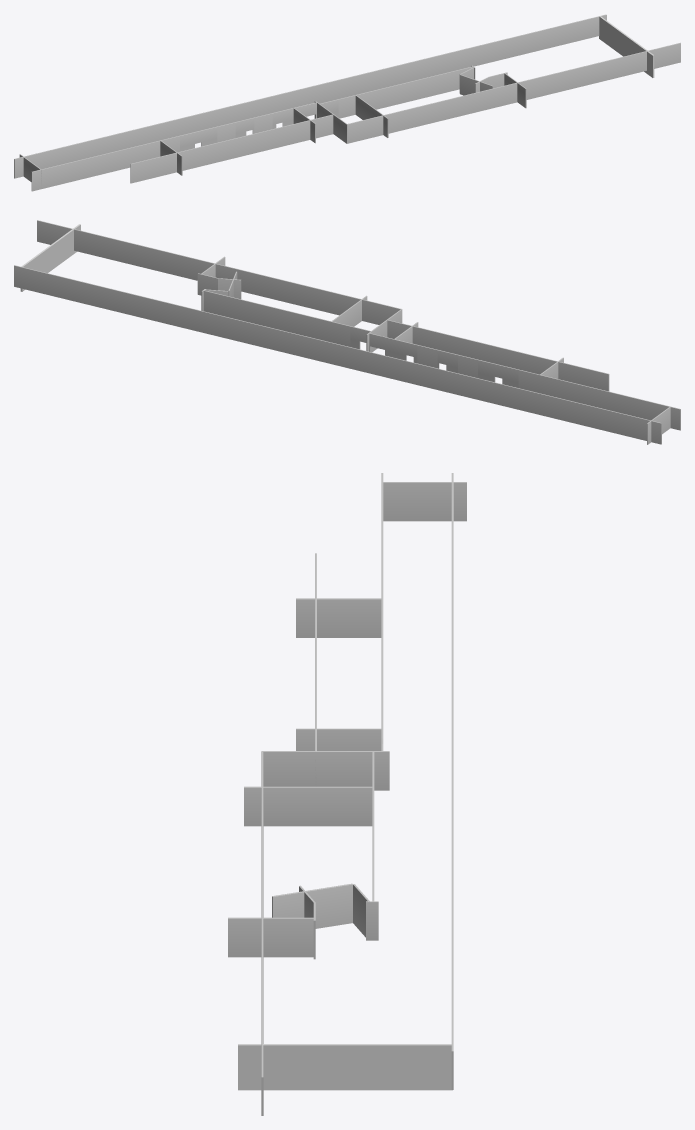
File: walls.fbx
The picture shows the model from 3 angles, top to bottom: view 1: azimuth 30°, elevation 25°; view 2: azimuth 150°, elevation 25°; view 3: azimuth 270°, elevation 25°; orthographic projection. The views are drawn at different scales.
Parts seen in each view (by area): view 1: row.007, row.031, row.032, row.019, row.004, Cube.043, row.008, row.029, row.010, row.028, row.039, row.013 (+4 smaller); view 2: row.007, row.031, row.032, row.019, row.004, Cube.043, row.010, row.008, row.029, row.013, row.039, row.033 (+3 smaller); view 3: Cube.043, row.029, row.027, row.001, row.033, row.028, row.030, row.007, row.017, row.023, row.031.
Part boxes in pixels (<box>): row.007: <box>14,14,606,178</box>; row.031: <box>347,42,680,143</box>; row.032: <box>130,114,333,183</box>; row.019: <box>338,67,467,118</box>; row.004: <box>31,144,142,191</box>; Cube.043: <box>599,16,654,77</box>; row.008: <box>180,126,217,151</box>; row.029: <box>355,95,388,137</box>; row.010: <box>143,135,179,160</box>; row.028: <box>325,109,347,143</box>; row.039: <box>217,122,235,142</box>; row.013: <box>254,113,272,133</box>; row.007: <box>14,265,661,444</box>; row.031: <box>37,220,400,324</box>; row.032: <box>387,320,609,391</box>; row.019: <box>209,291,350,346</box>; row.004: <box>559,379,680,430</box>; Cube.043: <box>20,224,80,291</box>; row.010: <box>518,369,559,397</box>; row.008: <box>478,360,518,387</box>; row.029: <box>332,295,367,326</box>; row.013: <box>417,345,437,368</box>; row.039: <box>458,355,478,377</box>; row.033: <box>647,406,670,444</box>; Cube.043: <box>238,1044,452,1090</box>; row.029: <box>244,786,372,826</box>; row.027: <box>228,917,313,957</box>; row.001: <box>296,598,381,637</box>; row.033: <box>381,482,466,521</box>; row.028: <box>261,751,346,786</box>; row.030: <box>296,728,381,750</box>; row.007: <box>451,473,453,1089</box>; row.017: <box>347,751,389,790</box>; row.023: <box>312,883,352,928</box>; row.031: <box>261,752,263,1115</box>.
Bounding box in the file's own units: 20731 × 720 × 3462.
1 material, 1 textured.
